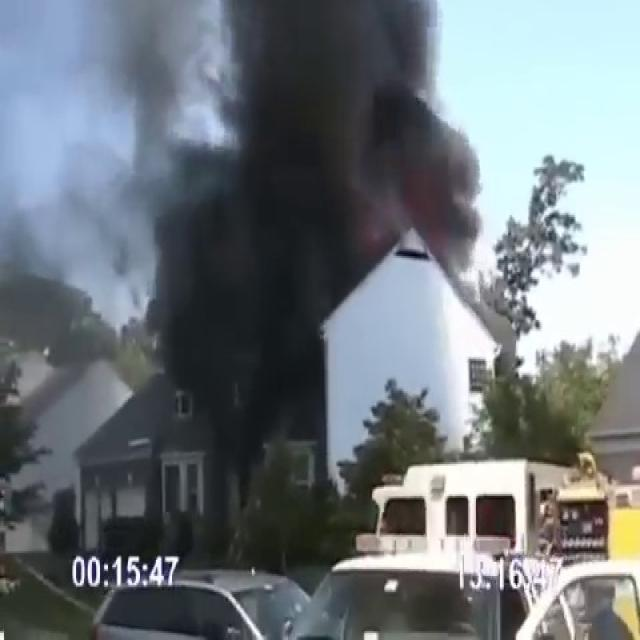Smoke: (39, 0, 481, 400)
